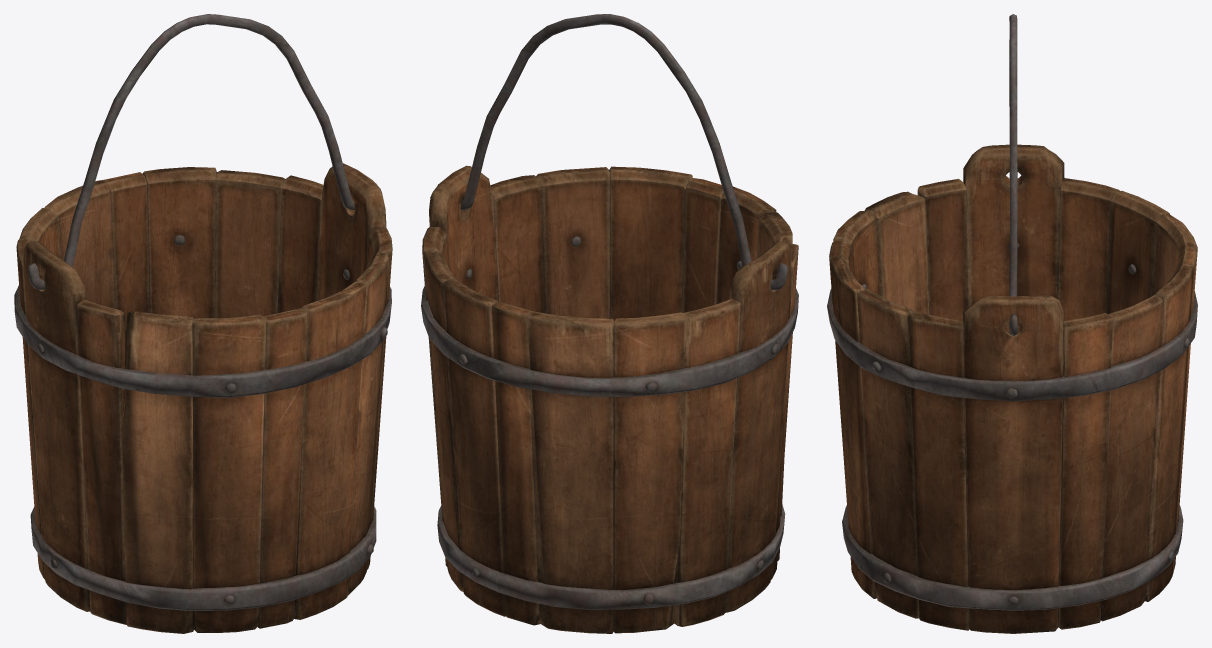
Rendered from wooden_bucket_01.fbx.
The picture shows the model from 3 angles, left to right: view 1: azimuth 30°, elevation 25°; view 2: azimuth 150°, elevation 25°; view 3: azimuth 270°, elevation 25°; orthographic projection.
Visible parts, largest first — view 1: wooden_bucket_01_LOD0; view 2: wooden_bucket_01_LOD0; view 3: wooden_bucket_01_LOD0.
Boxes of the visible parts, box(x1,y1,x2,y2) form: wooden_bucket_01_LOD0: box(14, 14, 392, 633); wooden_bucket_01_LOD0: box(421, 14, 798, 633); wooden_bucket_01_LOD0: box(827, 14, 1197, 633).
Size of what is drawn, in the model's own units: 36.7 by 54.99 by 34.2.
1 material, 1 textured.
